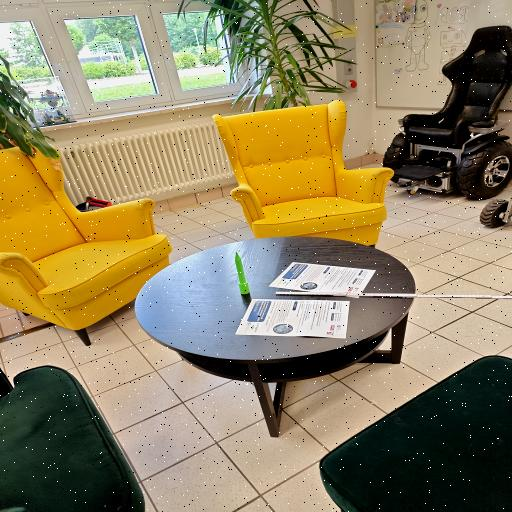Probe-Detection: (235, 252, 250, 294)
